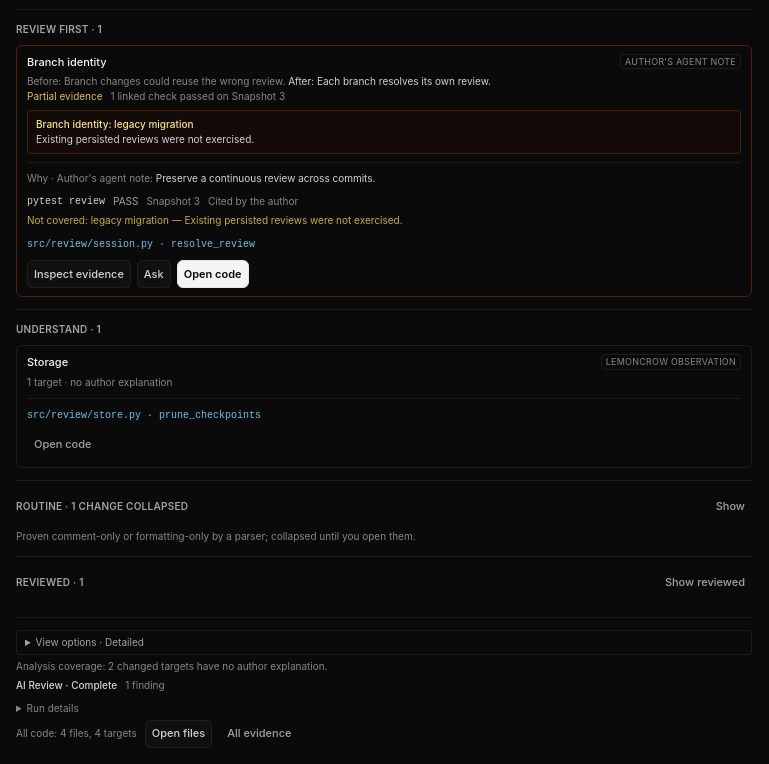
Test: ReviewBrief AI review › shows authoritative execution/data-boundary details and metering ownership
(page scrolled)
Step 1. Click the heading "Run details" → (53, 708), box [27,702,79,714]
(page scrolled)
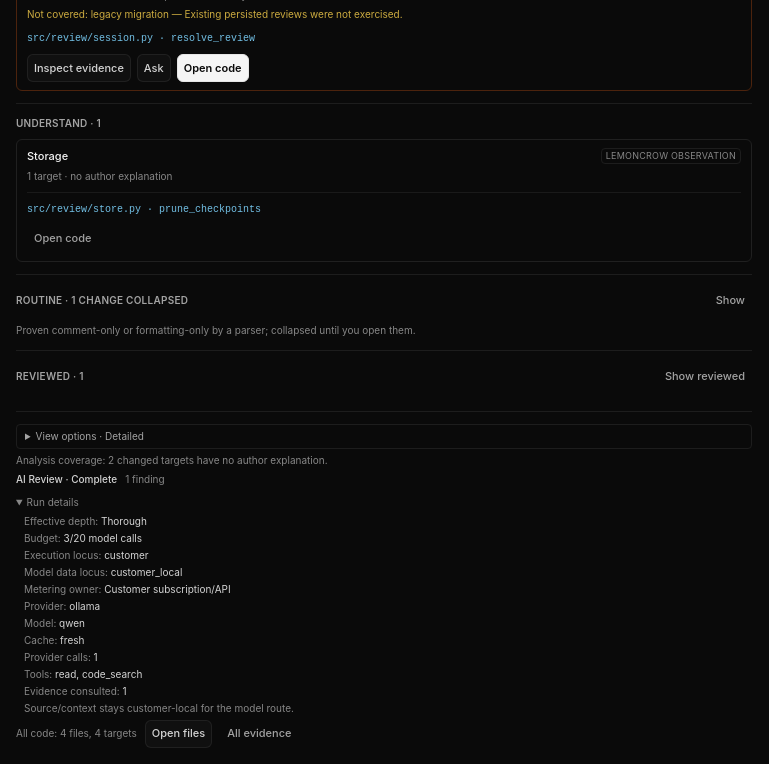
Check: the element with test id "ai-run-details" shows "Execution locus: customer", box [24,496,294,714]
Check: the element with test id "ai-run-details" shows "Model data locus: customer_local", box [24,496,294,714]
Check: the element with test id "ai-run-details" shows "Metering owner: Customer subscription/API", box [24,496,294,714]
